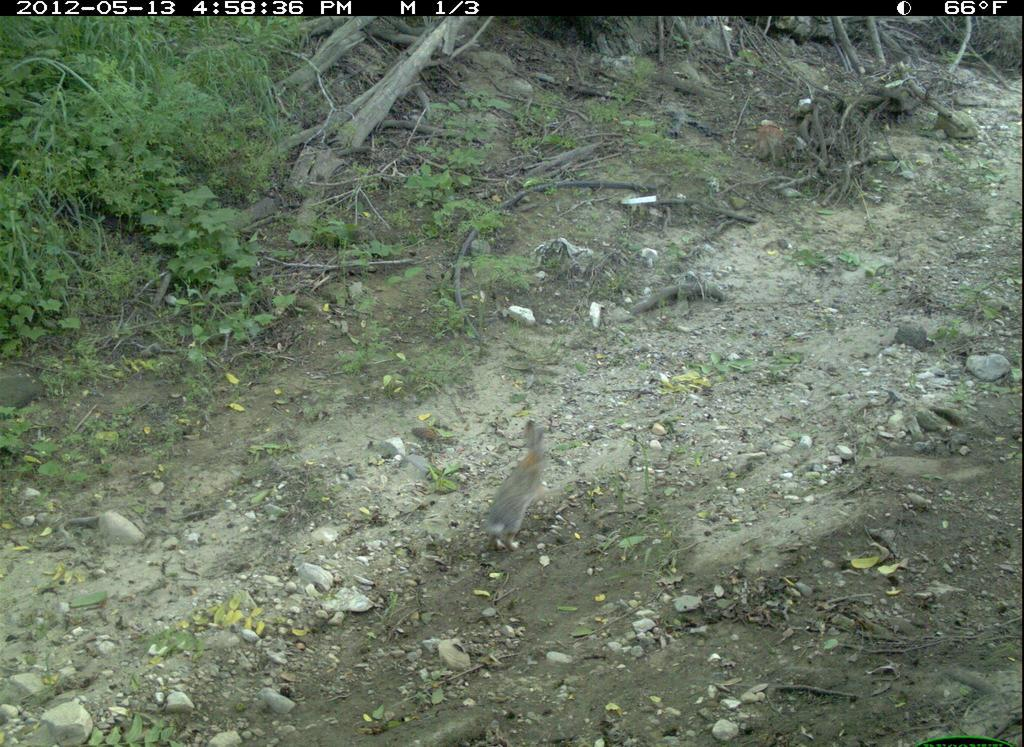rabbit: (478, 410, 566, 565)
